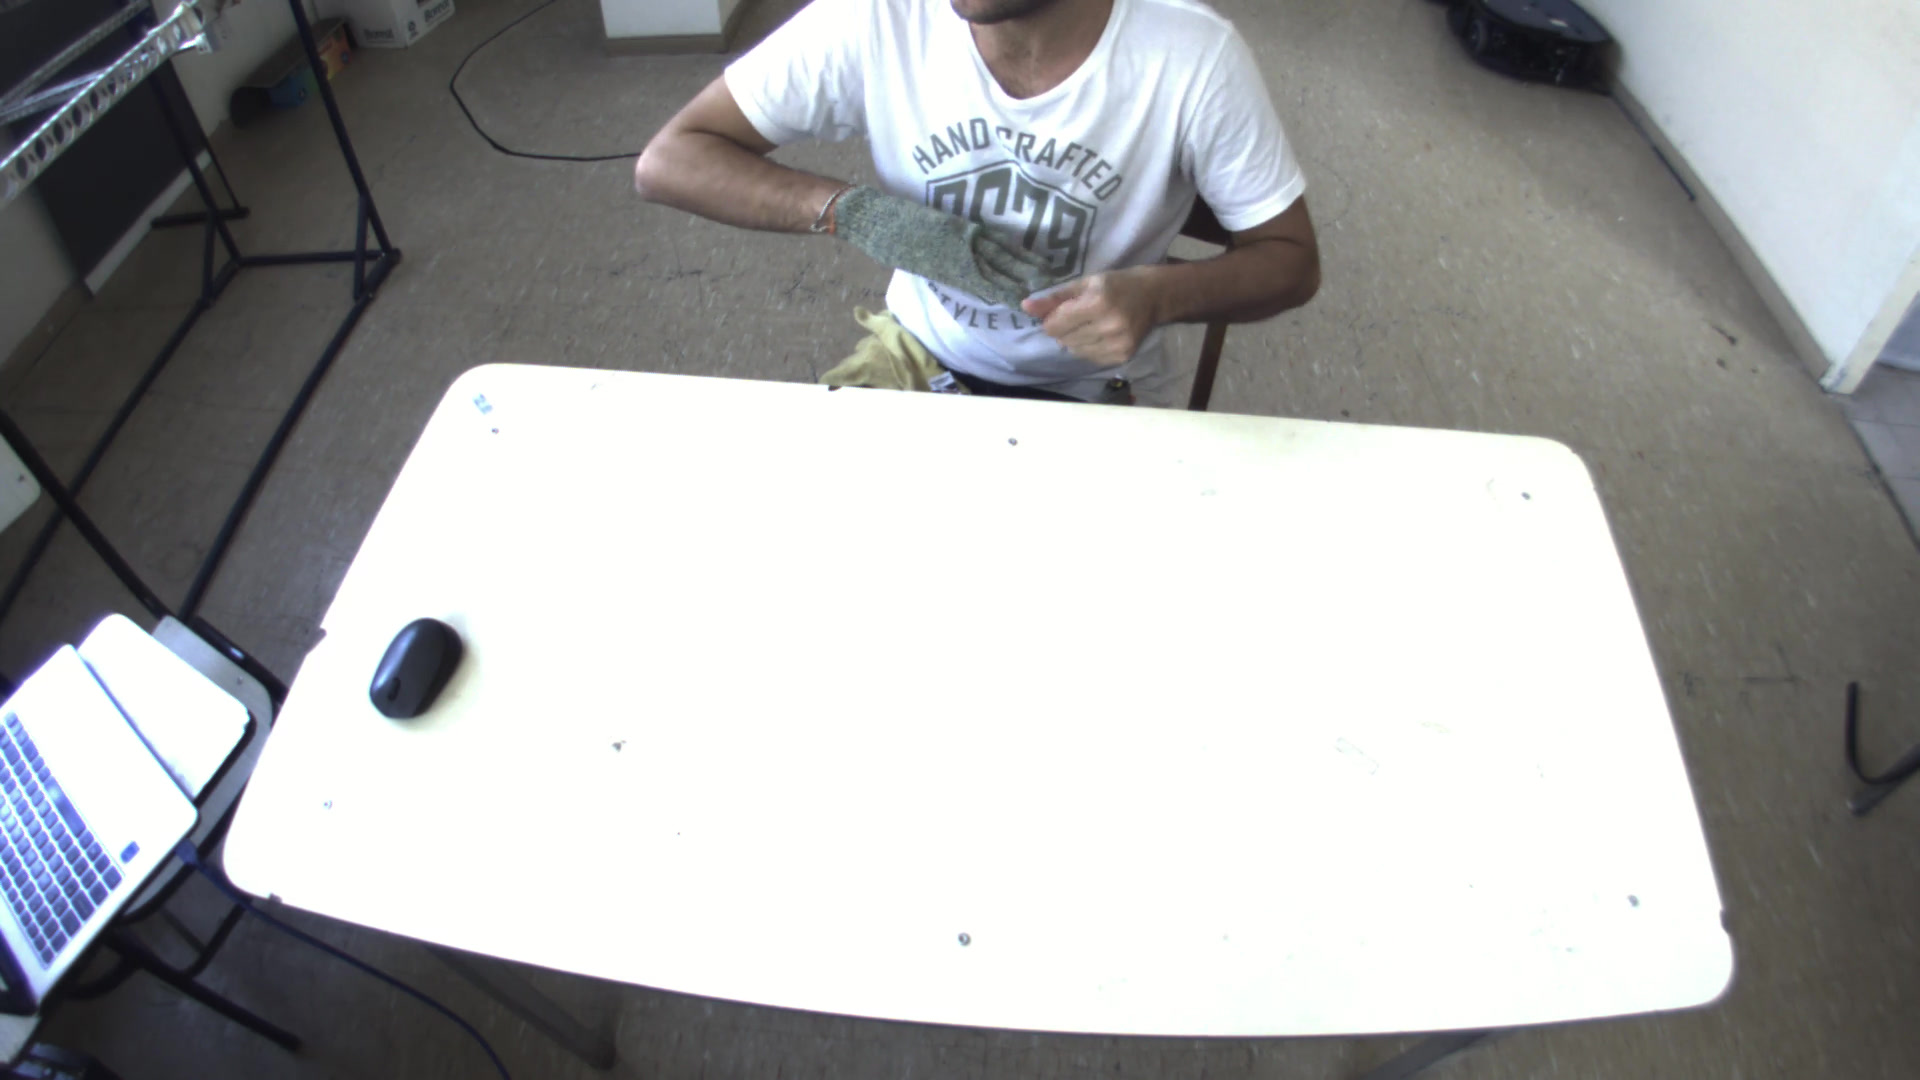hand: (847, 179, 1052, 311), (1019, 253, 1178, 368)
